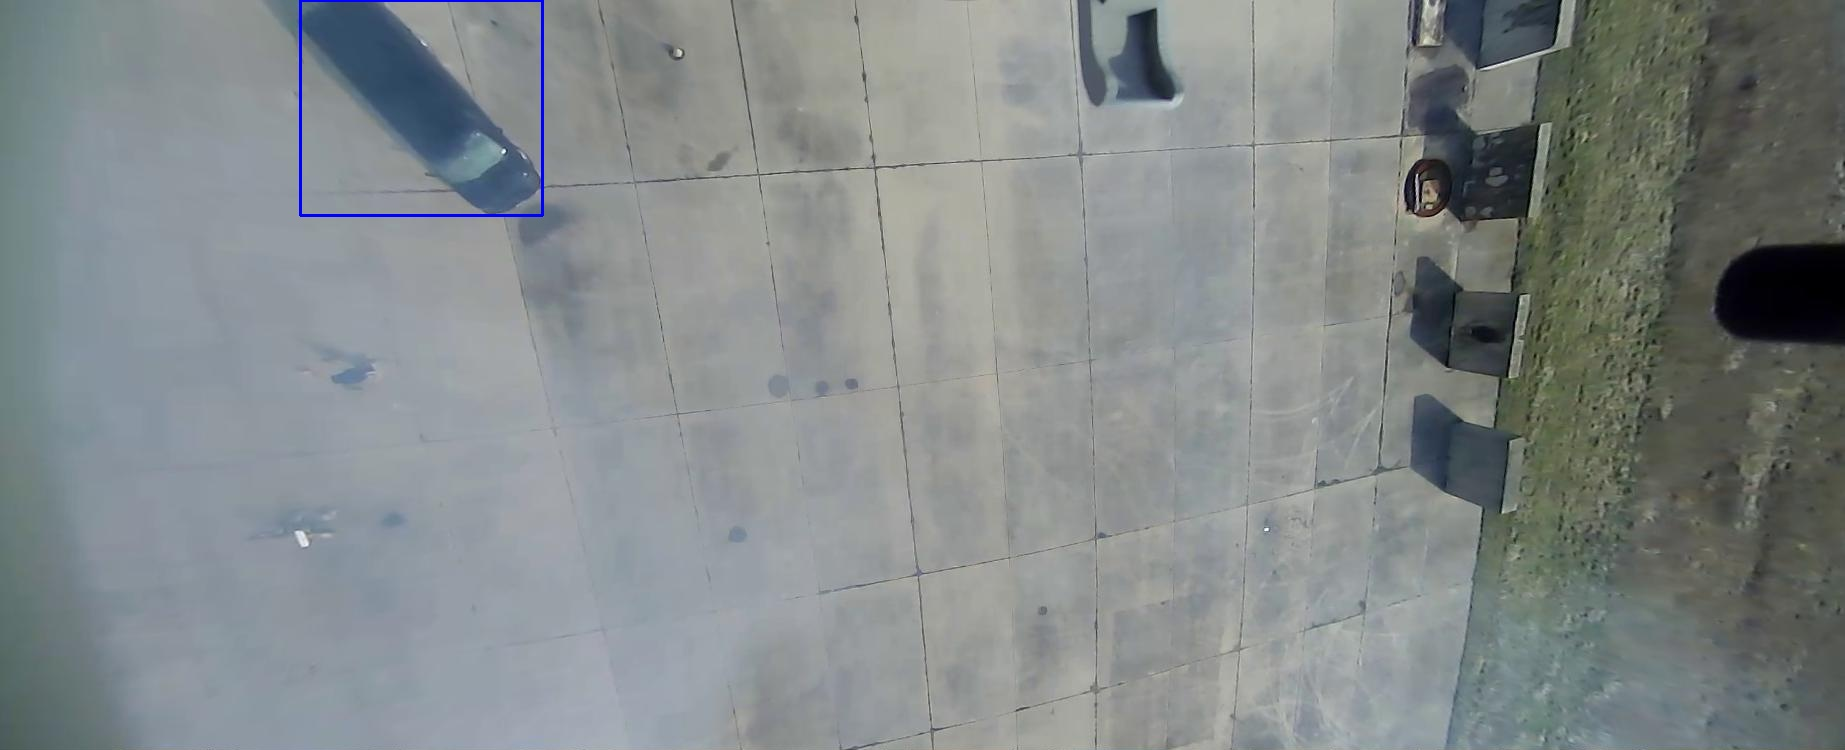vehicle: (0, 300, 215, 542)
